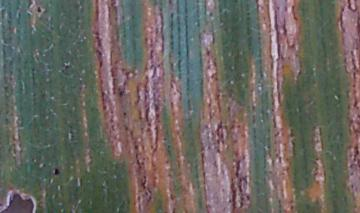tarspot: (34, 3, 45, 19), (51, 164, 62, 178)
